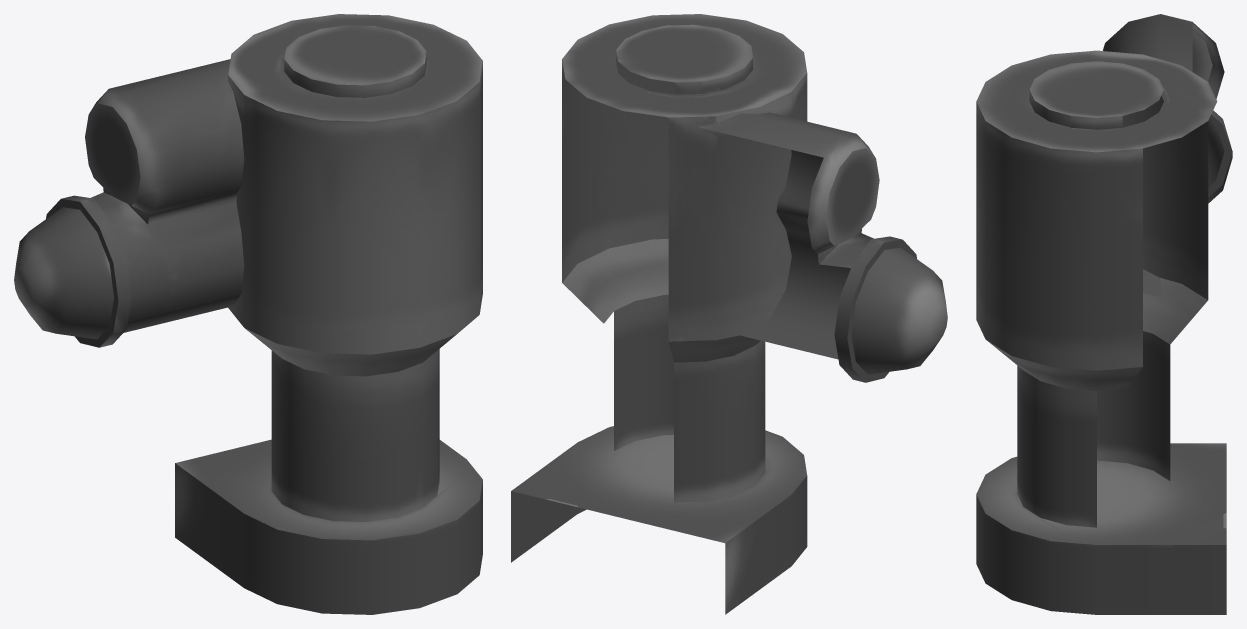
Rendered from DialBase.fbx.
The picture shows the model from 3 angles, left to right: view 1: azimuth 30°, elevation 25°; view 2: azimuth 150°, elevation 25°; view 3: azimuth 270°, elevation 25°; orthographic projection. The views are drawn at different scales.
Parts seen in each view (by area): view 1: Cylinder.002; view 2: Cylinder.002; view 3: Cylinder.002.
Boxes of the visible parts, box(x1,y1,x2,y2) form: Cylinder.002: box(14, 14, 482, 614); Cylinder.002: box(511, 14, 947, 614); Cylinder.002: box(976, 14, 1232, 614).
Size of the model in its own units: 368 by 434 by 213.
